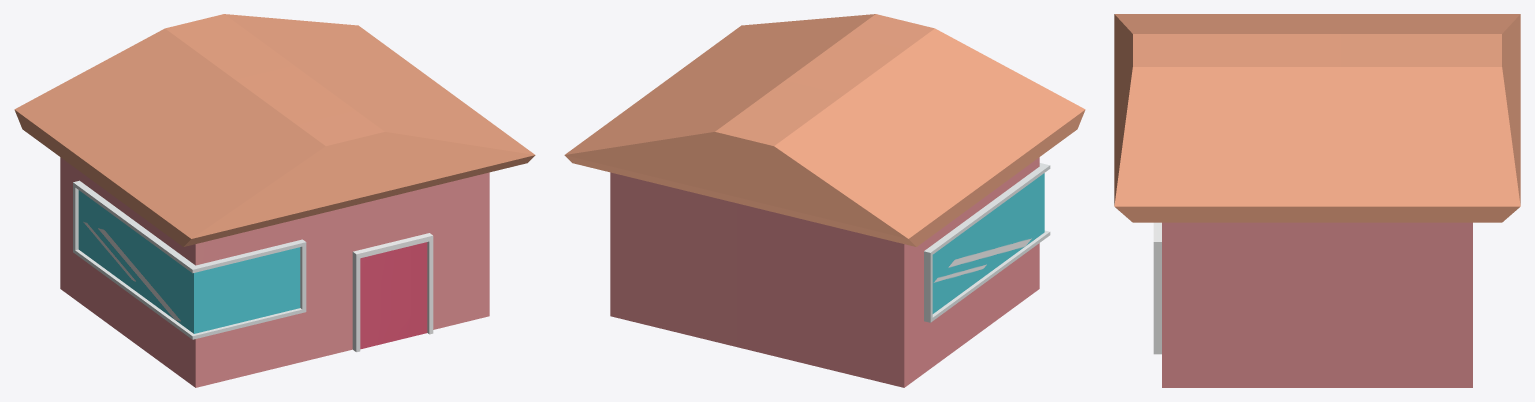
Rendered from building2.fbx.
3 views of the same model, side by side, from view 1: azimuth 30°, elevation 25°; view 2: azimuth 150°, elevation 25°; view 3: azimuth 270°, elevation 25° (orthographic). The views are drawn at different scales.
Visible parts, largest first — view 1: Cube.011, Cube.013, Cube.012; view 2: Cube.011, Cube.013; view 3: Cube.011, Cube.012.
Part boxes in pixels (<box>): Cube.011: <box>14,14,535,387</box>; Cube.013: <box>73,180,306,339</box>; Cube.012: <box>352,233,433,352</box>; Cube.011: <box>564,14,1085,387</box>; Cube.013: <box>924,163,1050,322</box>; Cube.011: <box>1114,14,1520,387</box>; Cube.012: <box>1153,222,1161,354</box>.
Bounding box in the file's own units: 10.3 × 6.36 × 9.17.
1 material, 1 textured.
